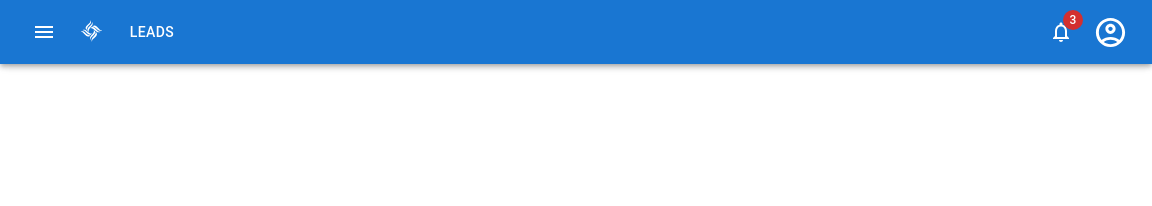
Test: CdfAppBar Component › opens and closes mobile menu on icon click
Click the button with test id "menu-btn" at (44, 32), box [24, 12, 64, 52]
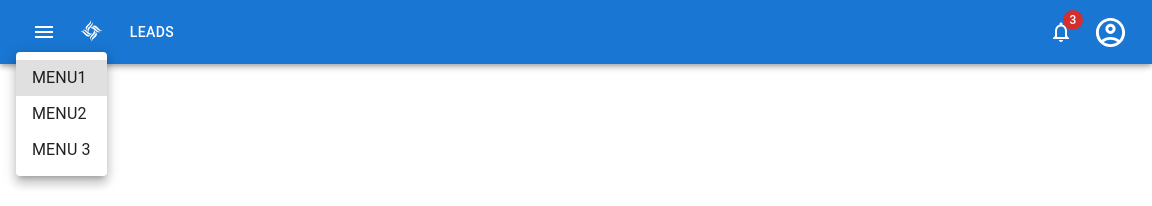
Expected: the text "MENU1" is shown, [32, 66, 87, 90]
Expected: the text "MENU2" is shown, [32, 102, 87, 126]
Expected: the text "MENU 3" is shown, [32, 138, 91, 162]
